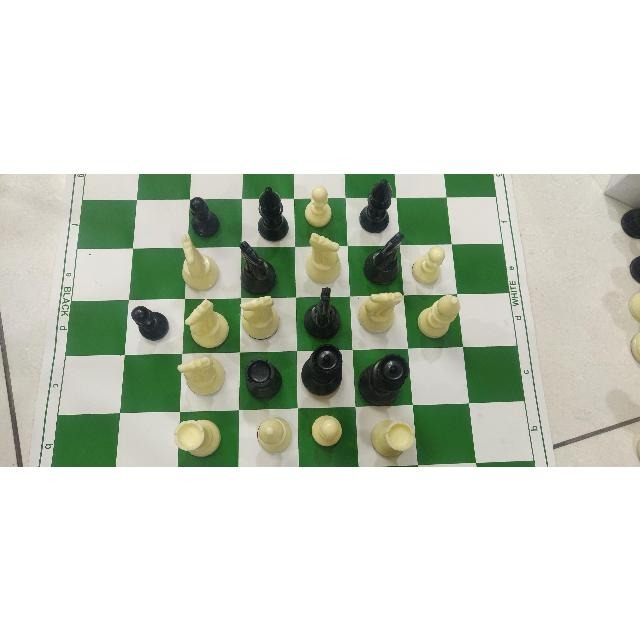black-bishop: (241, 186, 295, 241), (351, 177, 398, 231)
black-knight: (236, 235, 289, 293), (301, 287, 351, 339), (358, 232, 404, 284)
black-pawn: (183, 195, 231, 234), (131, 298, 175, 340)
black-queen: (358, 347, 418, 405), (301, 344, 345, 402)
black-rook: (242, 354, 293, 400)
white-bishop: (413, 293, 465, 342), (251, 415, 297, 459)
white-knight: (175, 232, 229, 290), (175, 354, 231, 401), (184, 300, 235, 349), (300, 233, 348, 285), (240, 296, 292, 343), (358, 289, 404, 340)
white-pawn: (298, 181, 343, 229), (410, 242, 456, 286), (304, 412, 350, 452)
white-rook: (171, 414, 229, 460), (370, 412, 419, 462)
